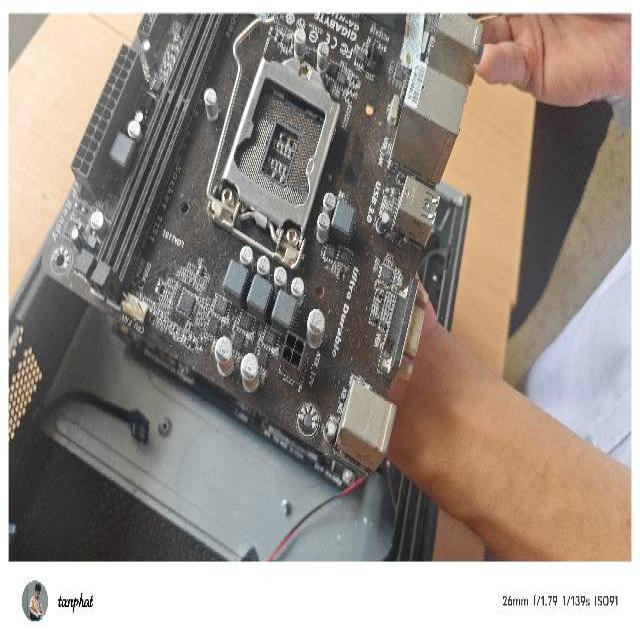Mainboard: (38, 8, 496, 486)
